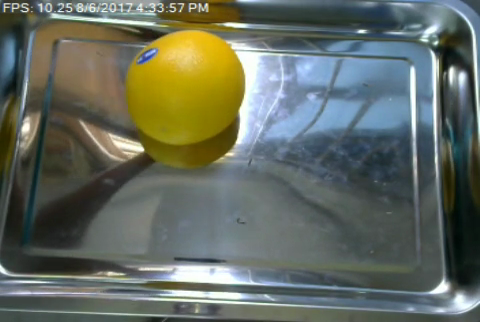Orange: (126, 29, 246, 143)
